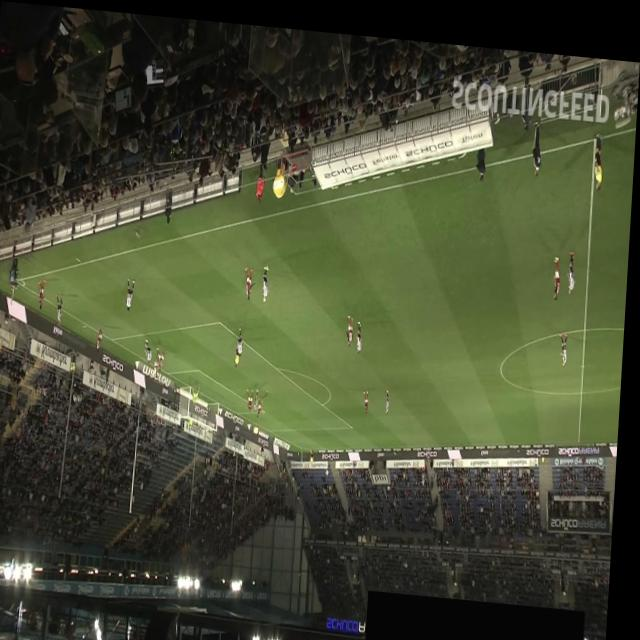goalkeeper: (194, 378, 205, 401)
player: (245, 260, 258, 295), (568, 239, 578, 283), (554, 244, 563, 288), (264, 258, 274, 297), (561, 321, 572, 355), (128, 274, 138, 308), (57, 291, 67, 324), (348, 306, 357, 339), (358, 312, 366, 347), (40, 277, 49, 308), (159, 342, 170, 367), (147, 334, 156, 359), (239, 322, 246, 350), (365, 382, 373, 406), (157, 348, 164, 375), (99, 324, 106, 350), (256, 382, 263, 406), (250, 382, 257, 405), (388, 381, 394, 407), (260, 391, 267, 412)
referee: (593, 119, 606, 179), (237, 334, 244, 363), (314, 440, 319, 459)
